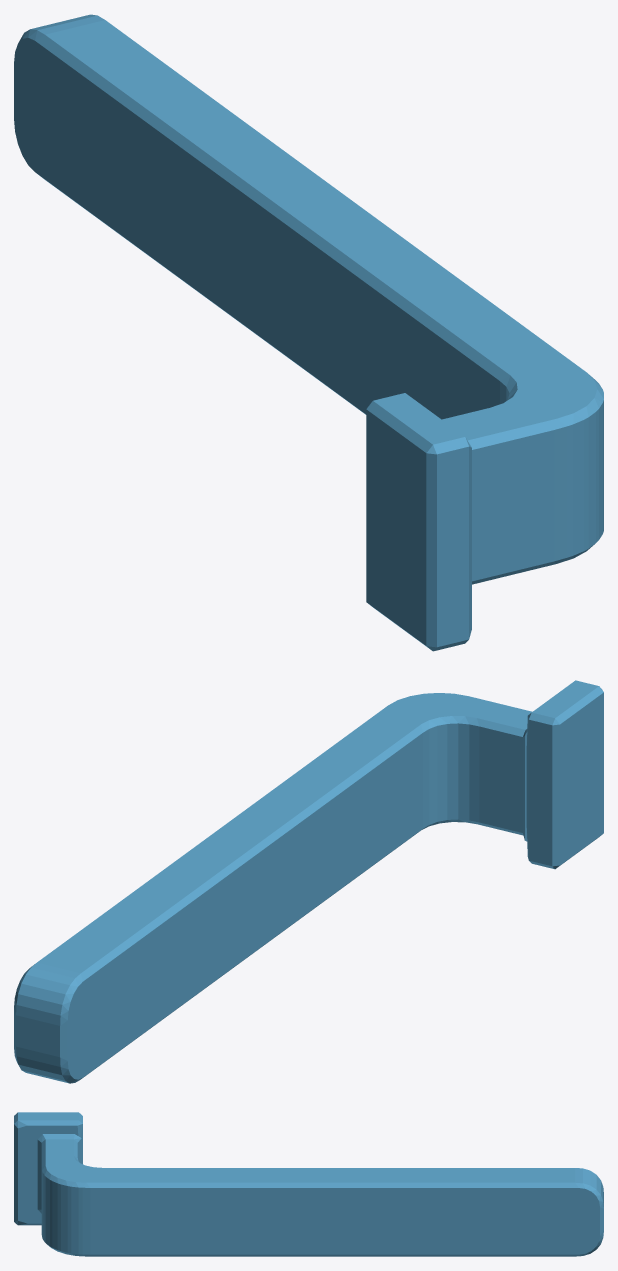
The model's file is VIS_WristLink3.dae.
The picture shows the model from 3 angles, top to bottom: view 1: azimuth 30°, elevation 25°; view 2: azimuth 150°, elevation 25°; view 3: azimuth 270°, elevation 25°; orthographic projection. The views are drawn at different scales.
Parts seen in each view (by area): view 1: VIS_WristLink3; view 2: VIS_WristLink3; view 3: VIS_WristLink3.
Part boxes in pixels (x1,y1,x2,y2): VIS_WristLink3: [14, 14, 603, 651]; VIS_WristLink3: [14, 680, 603, 1083]; VIS_WristLink3: [14, 1112, 603, 1256].
Size of the model in its own units: 0.0296 by 0.127 by 0.0249.
